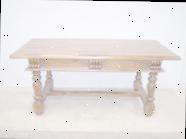Mesa: (8, 34, 182, 117)
